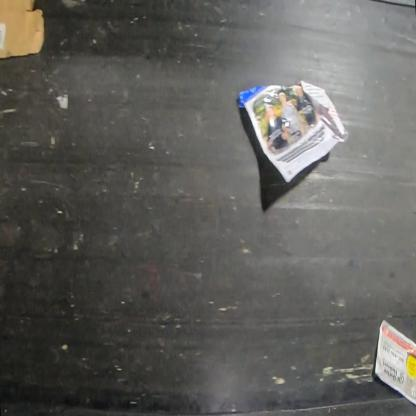cardboard: (0, 0, 45, 58)
